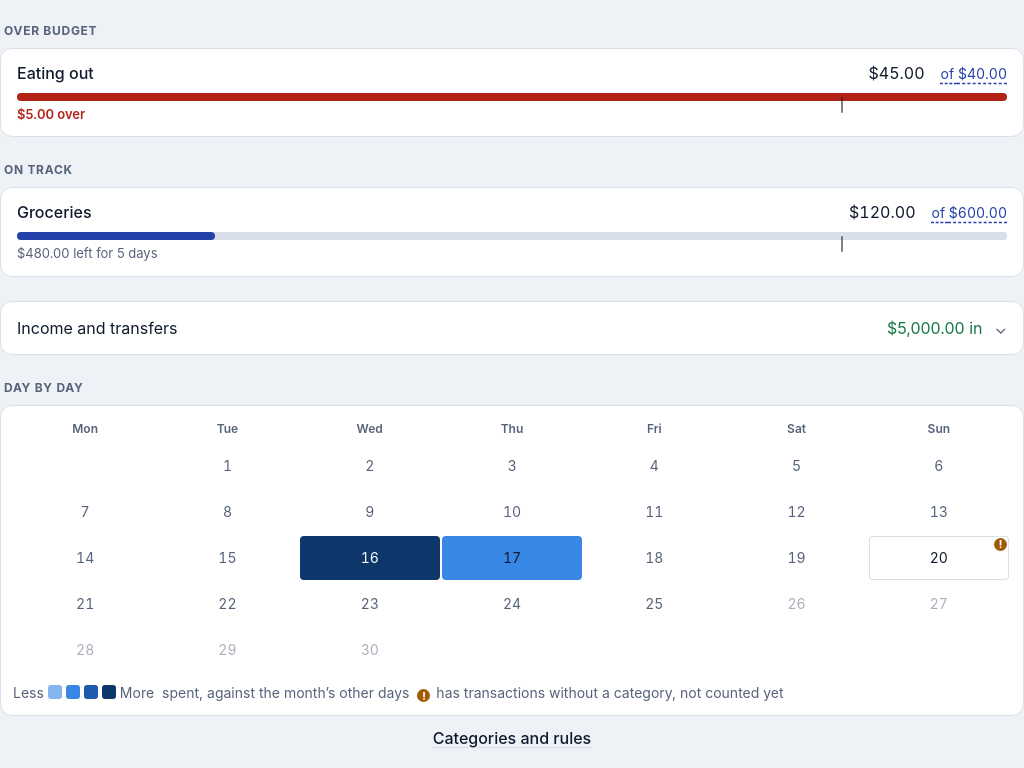
Test: the month, day by day › opens a day’s transactions, spent and not
This screenshot has width=1024, height=768.
(page scrolled)
Step 1. Click the button named "Wed, Sep 16: $120.00 spent, 2 transactions" → click(370, 558), box [300,536,440,580]
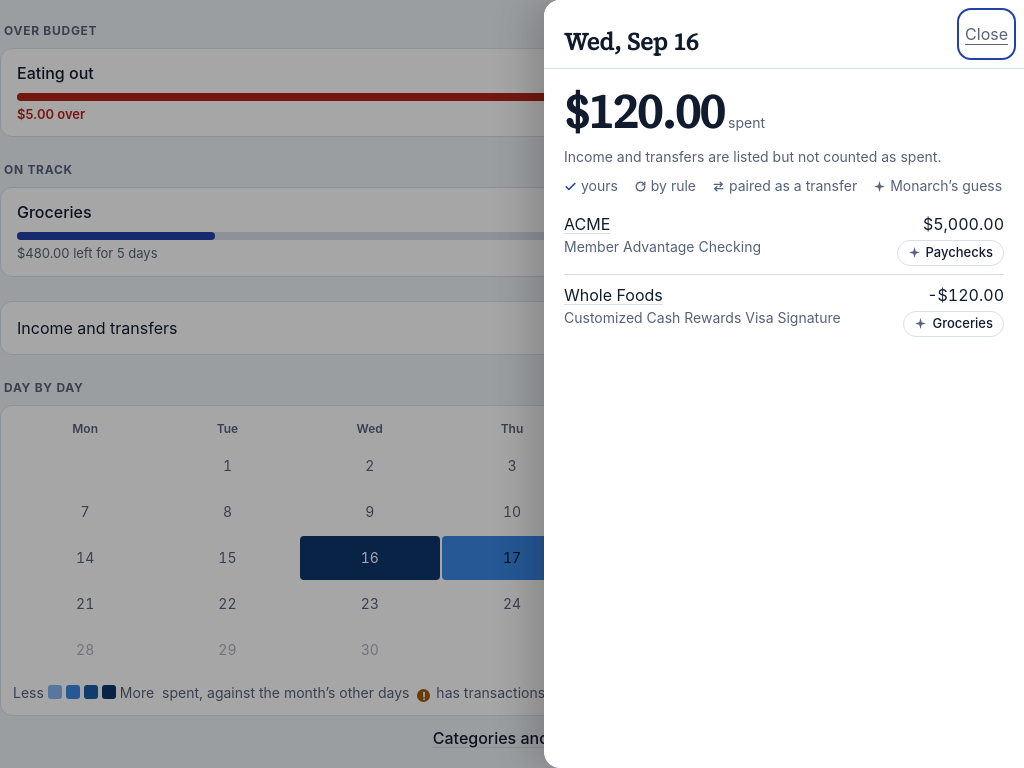
Expected: the button with aria-label "Category for Whole Foods: Groceries, Monarch’s guess" is shown, [904,311,1004,337]
Expected: the button with aria-label "Category for ACME: Paychecks, Monarch’s guess" is shown, [897,240,1004,266]
Expected: the dialog "Wed, Sep 16" shows "$120.00 spent", [544,0,1023,767]
